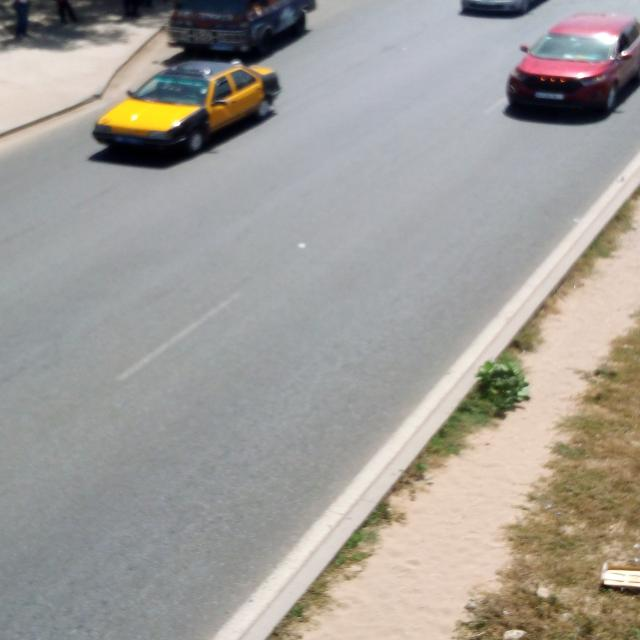car rapide: (169, 1, 318, 54)
particulier: (508, 15, 640, 112)
taxi: (94, 61, 281, 155)
